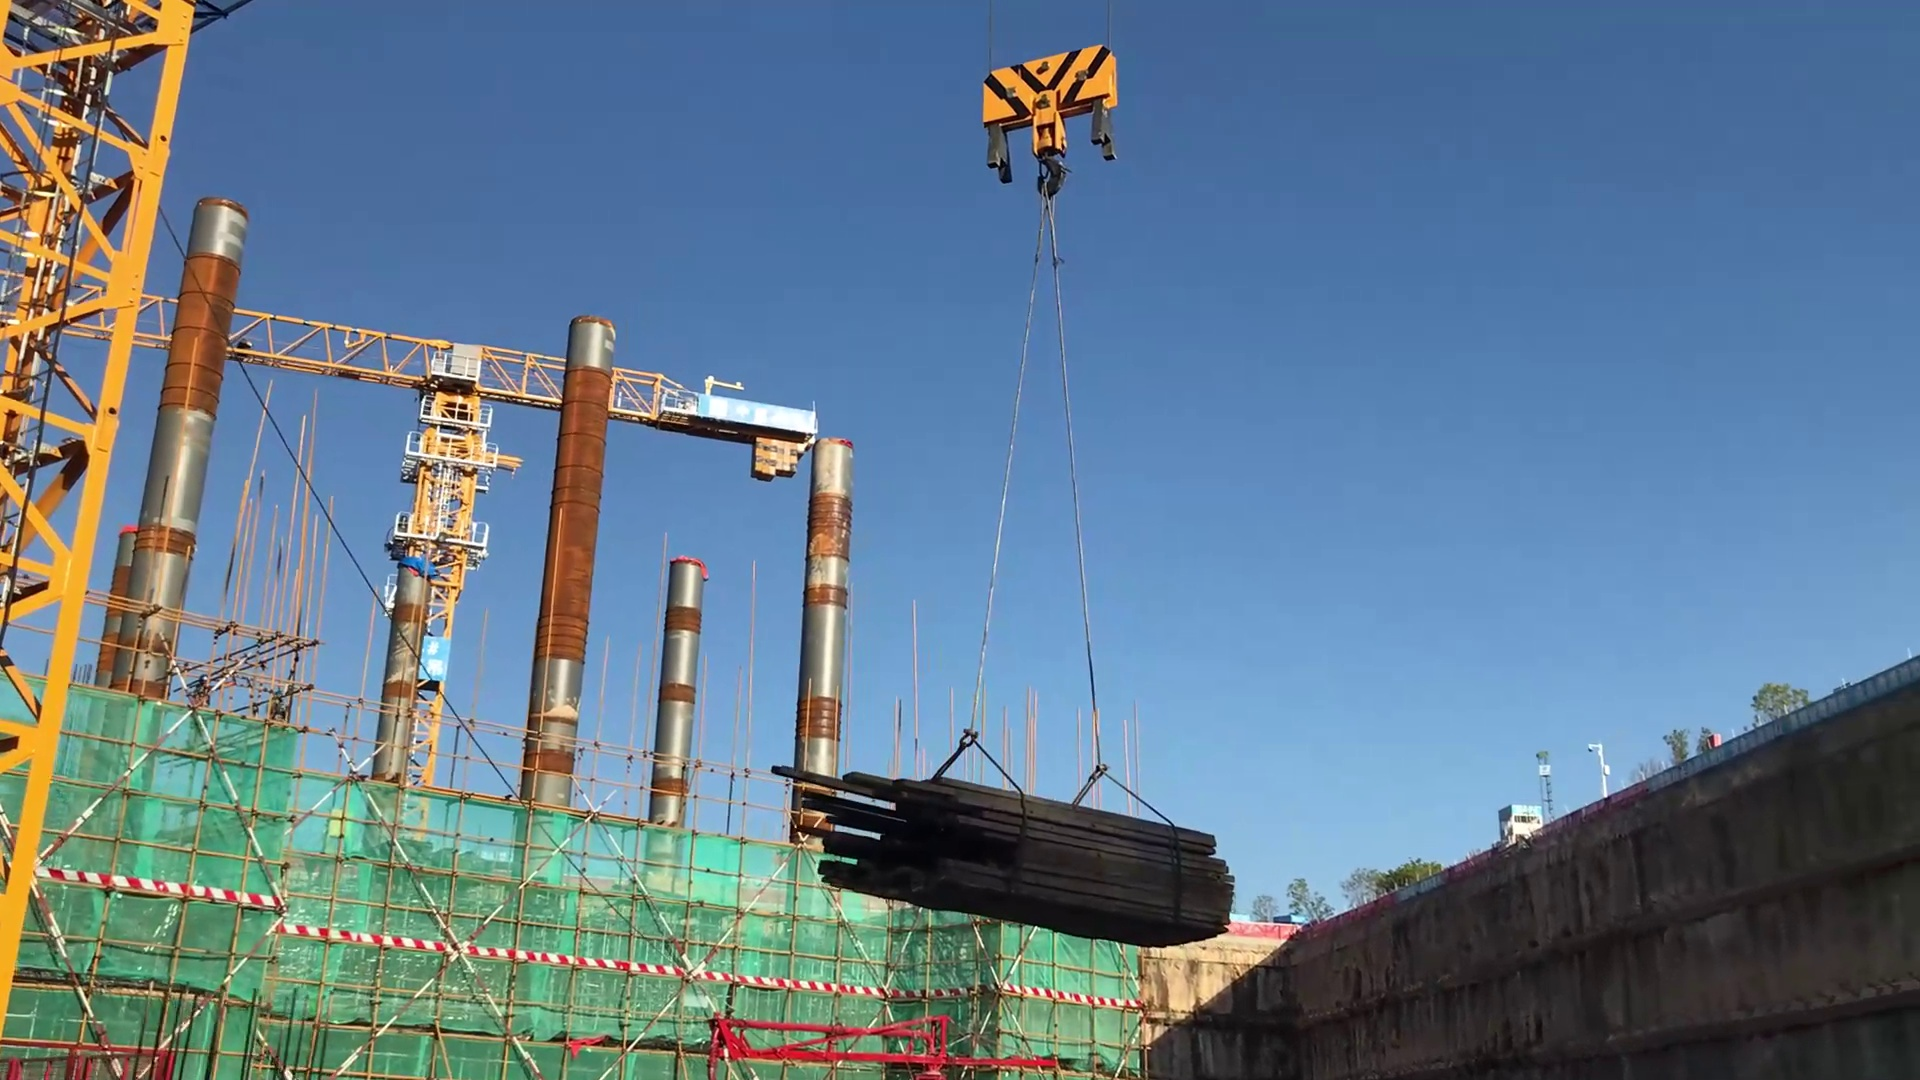hook: (975, 40, 1124, 200)
wood: (764, 752, 1244, 955)
